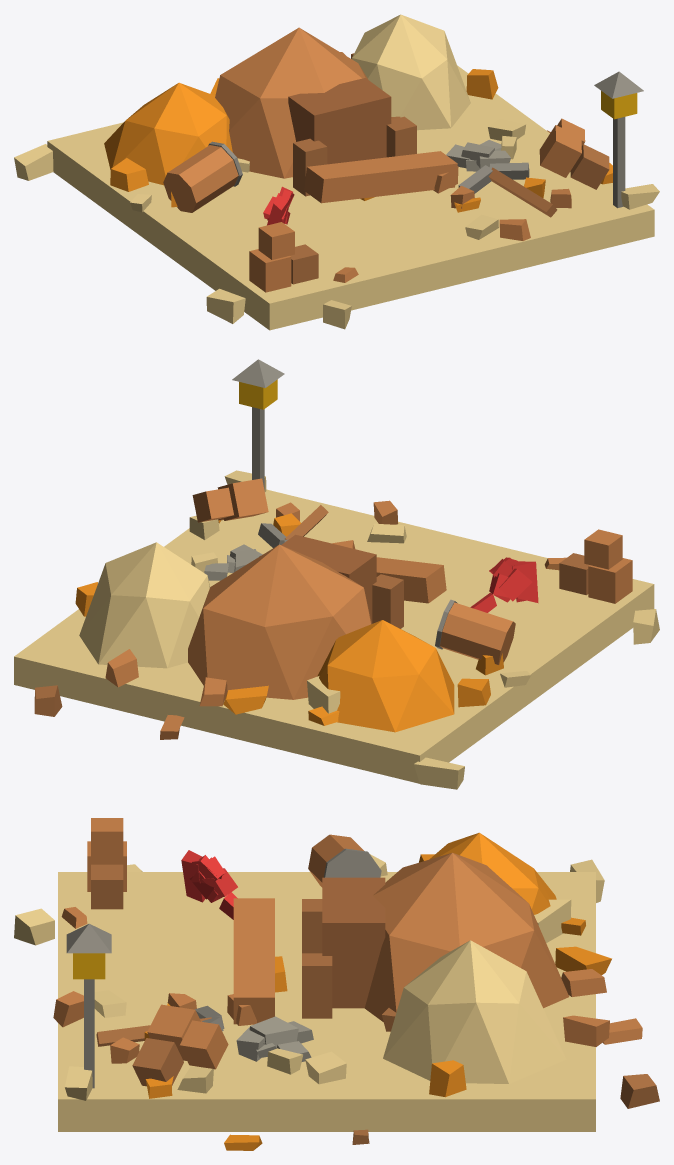
Rendered from mine_t1_v2_dmg2.glb.
3 views of the same model, one above another, from view 1: azimuth 30°, elevation 25°; view 2: azimuth 150°, elevation 25°; view 3: azimuth 270°, elevation 25° (orthographic). The views are drawn at different scales.
Visible parts, largest first — view 1: mine_t1_v2_dmg2; view 2: mine_t1_v2_dmg2; view 3: mine_t1_v2_dmg2.
Part boxes in pixels (<box>): mine_t1_v2_dmg2: <box>14,14,659,330</box>; mine_t1_v2_dmg2: <box>14,359,659,789</box>; mine_t1_v2_dmg2: <box>14,818,659,1150</box>.
Bounding box in the file's own units: 0.7089 × 0.24 × 0.7201.
1 material, 1 textured.
